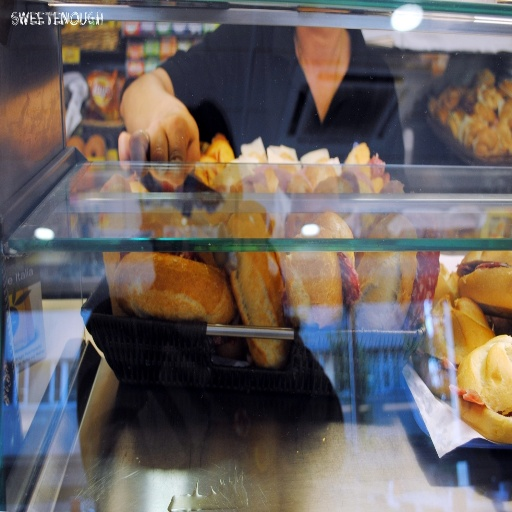hand: (118, 63, 197, 156)
